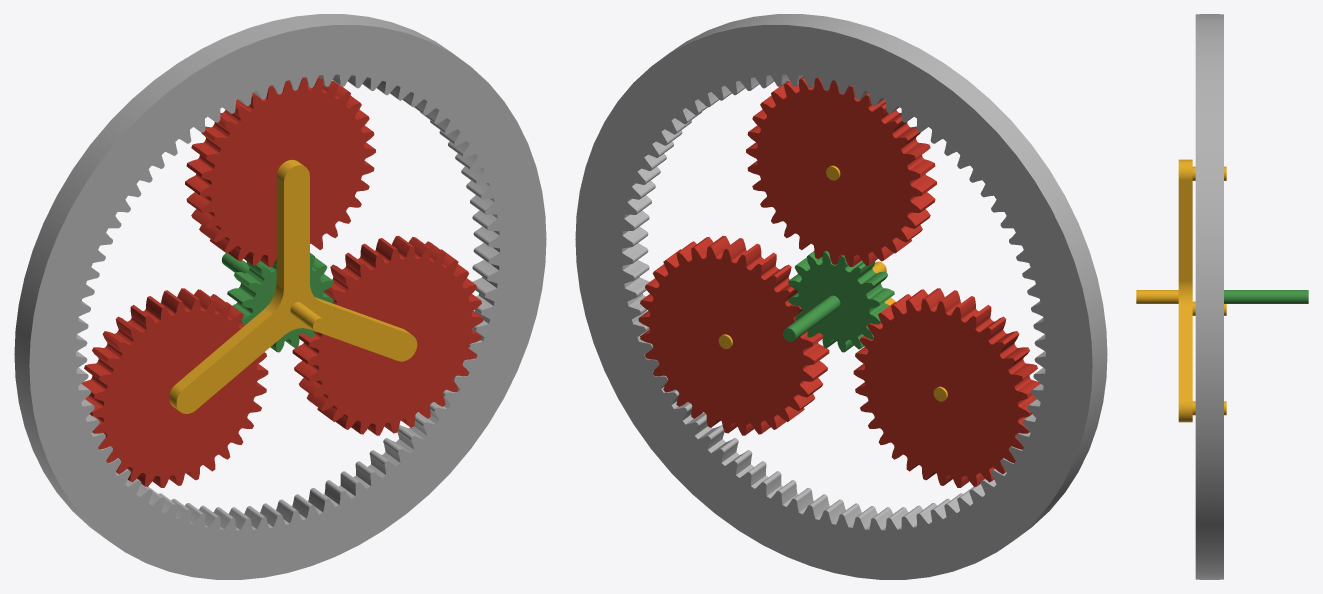
The model's file is Planetry Gear System.fbx.
The picture shows the model from 3 angles, left to right: view 1: azimuth 30°, elevation 25°; view 2: azimuth 150°, elevation 25°; view 3: azimuth 270°, elevation 25°; orthographic projection. The views are drawn at different scales.
Visible parts, largest first — view 1: Body1 (×6); view 2: Body1 (×6); view 3: Body1 (×3).
Boxes of the visible parts, left/top/right/bottom form: Body1 (×6): left=14, top=14, right=546, bottom=579; Body1 (×6): left=575, top=14, right=1107, bottom=579; Body1 (×3): left=1136, top=14, right=1308, bottom=579.
Size of the model in its own units: 200 by 200 by 61.
